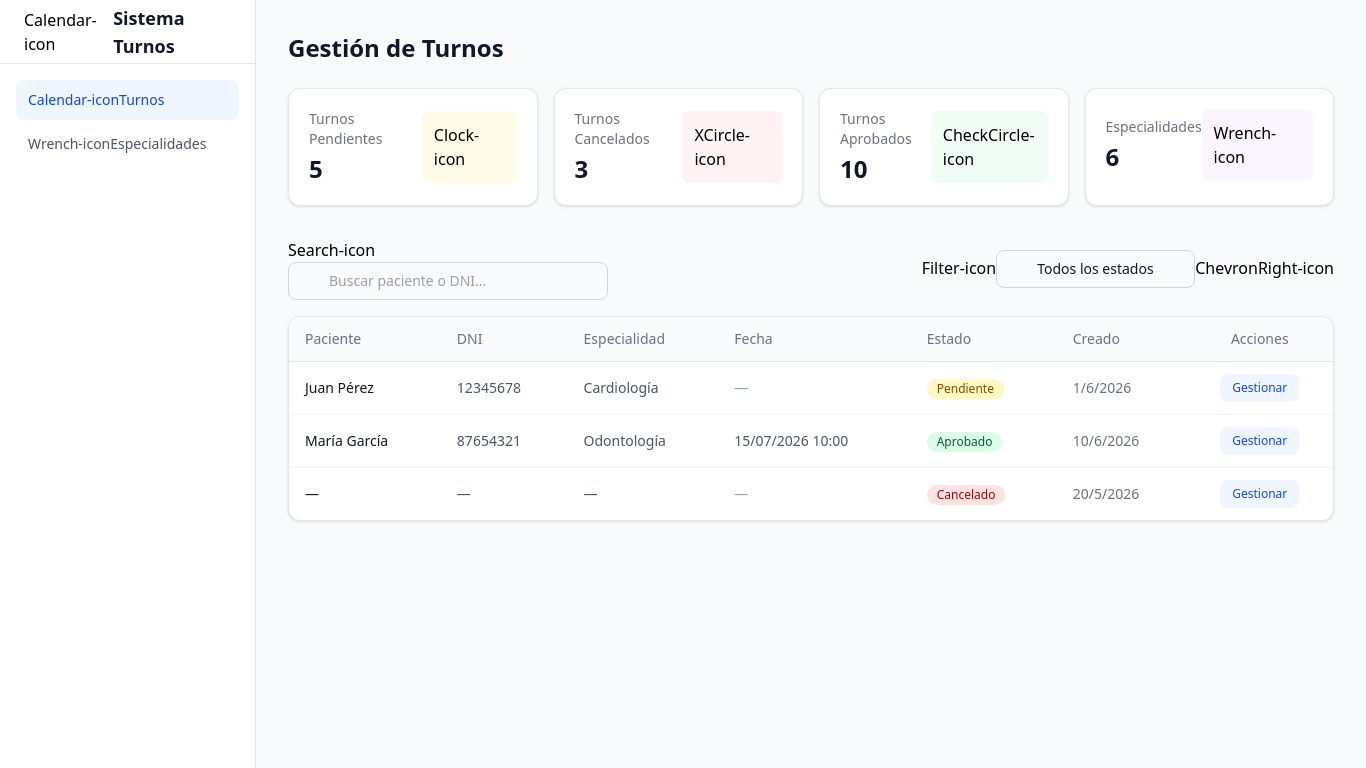
Scenario: AdminDashboard - ShiftsManagement › shows no-results message when filter yields no matches
The width and height of the screenshot is (1366, 768).
Expected: the heading "Gestión de Turnos" is shown, top-left (288, 31), bottom-right (504, 64)
Type "ZZZ" into the field with placeholder "Buscar paciente o DNI...".
click(448, 281); type("ZZZ")  # box top-left (288, 262), bottom-right (608, 300)
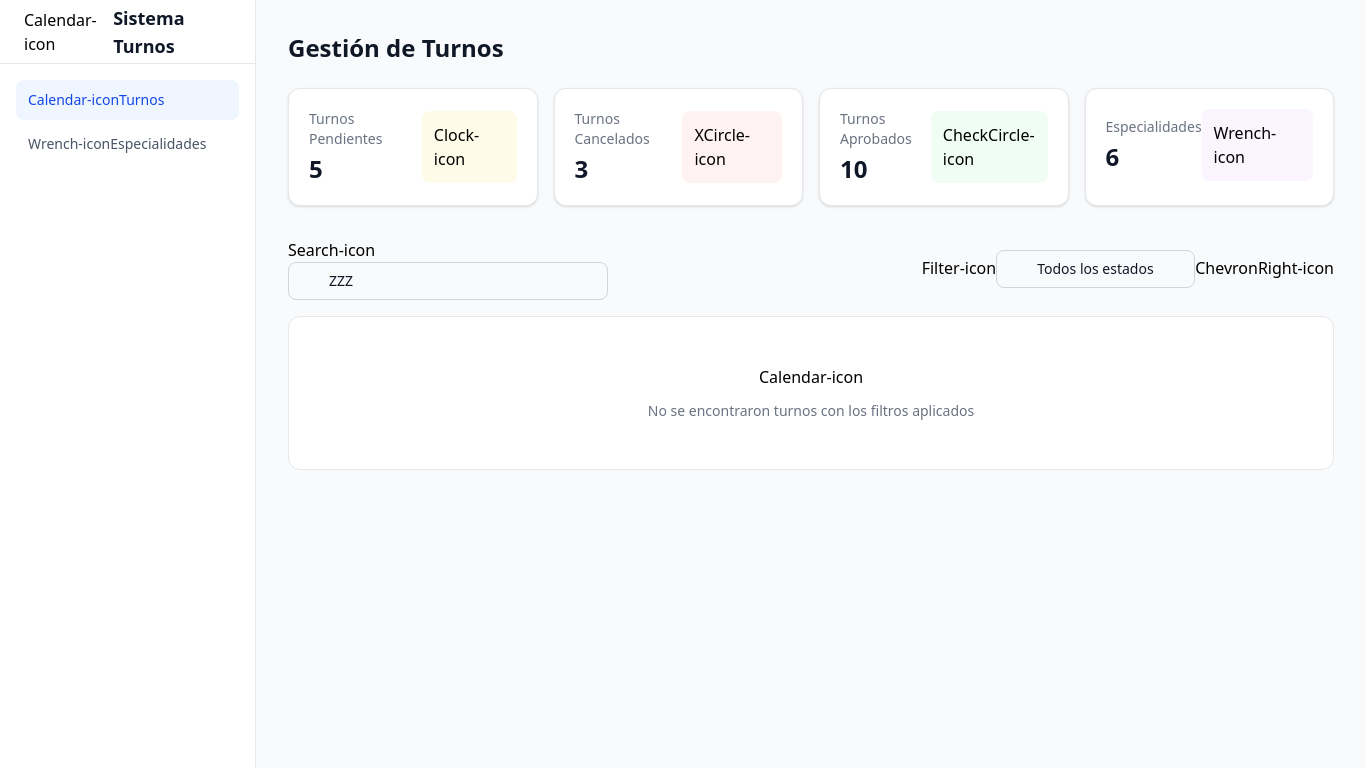
Expected: the text "No se encontraron turnos con los filtros aplicados" is shown, top-left (648, 401), bottom-right (974, 420)
